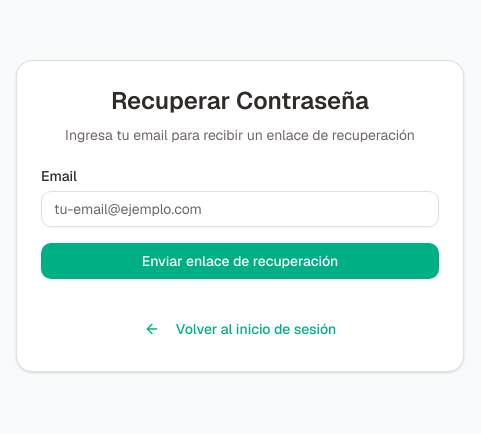
Scenario: ResetPasswordPage › should show error message on reset failure
In the field labelled "Email": (240, 209) [41,191,439,227], type "test@example.com"
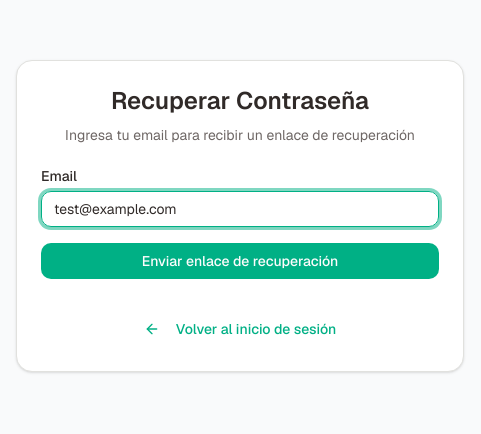
Click the button "Enviar enlace de recuperación": (240, 261) [41,243,439,279]
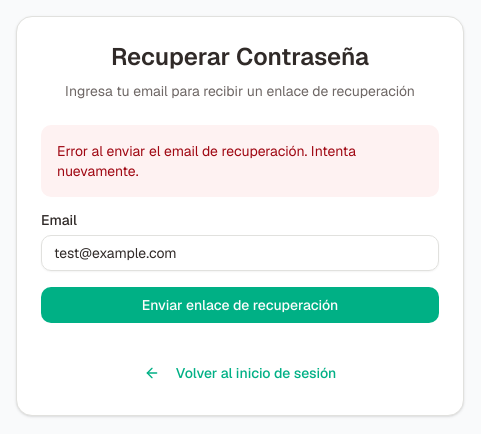
Expected: the text "Error al enviar el email de recuperación" is shown, [57,142,356,180]
